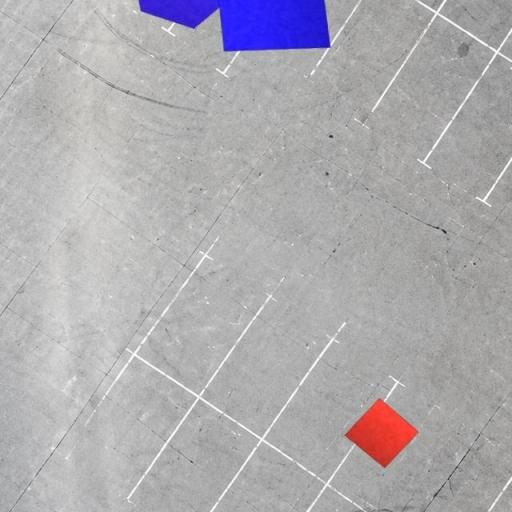BLUE_SQUARE: (212, 0, 331, 52)
RED_SQUARE: (344, 398, 420, 468)
